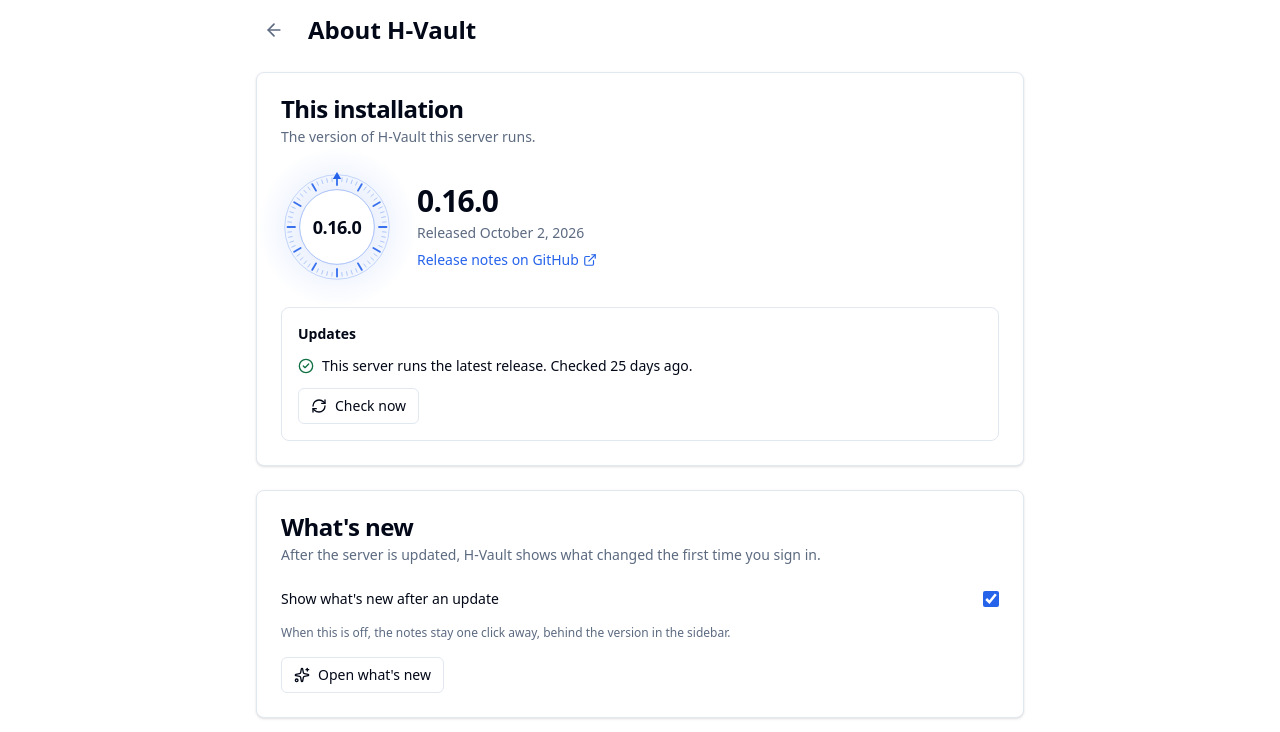
AboutPage: this installation › reports a failed check
Click the button "Check now" at (359,406), box [298,388,419,424]
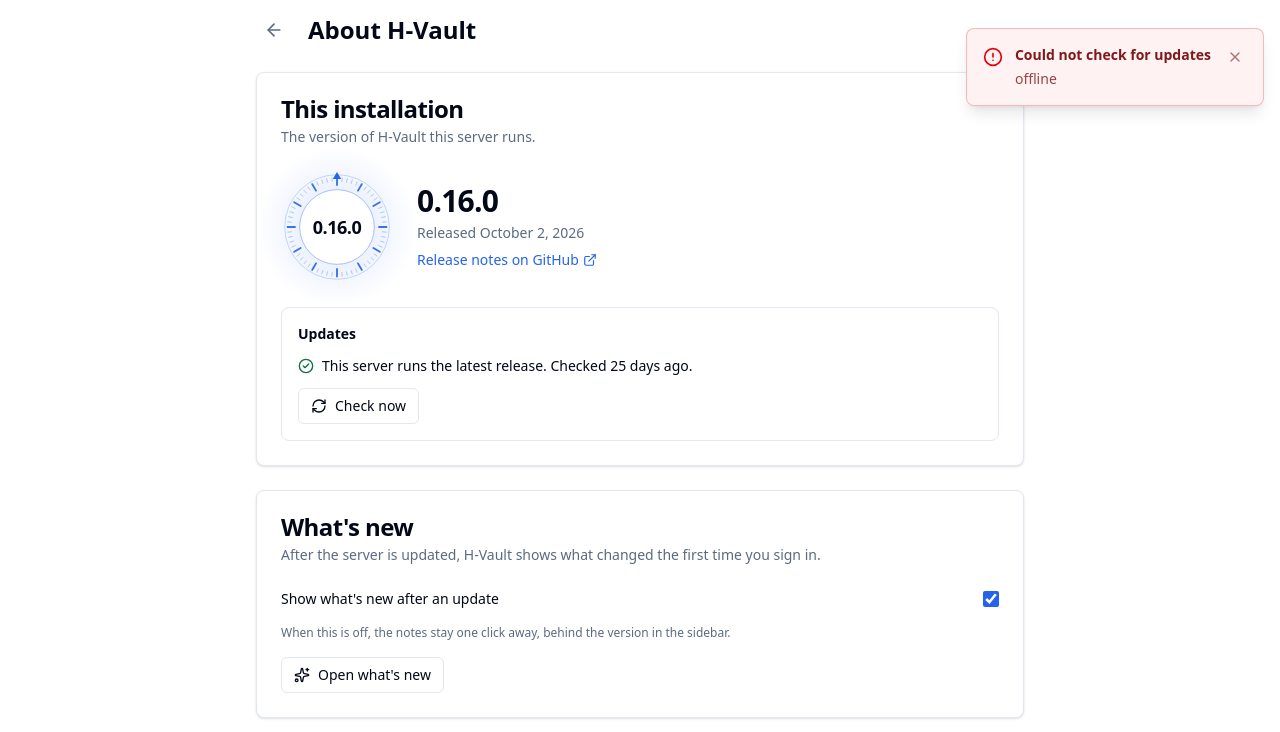
Result: the text "Could not check for updates" is shown at [1015,45,1211,65]
